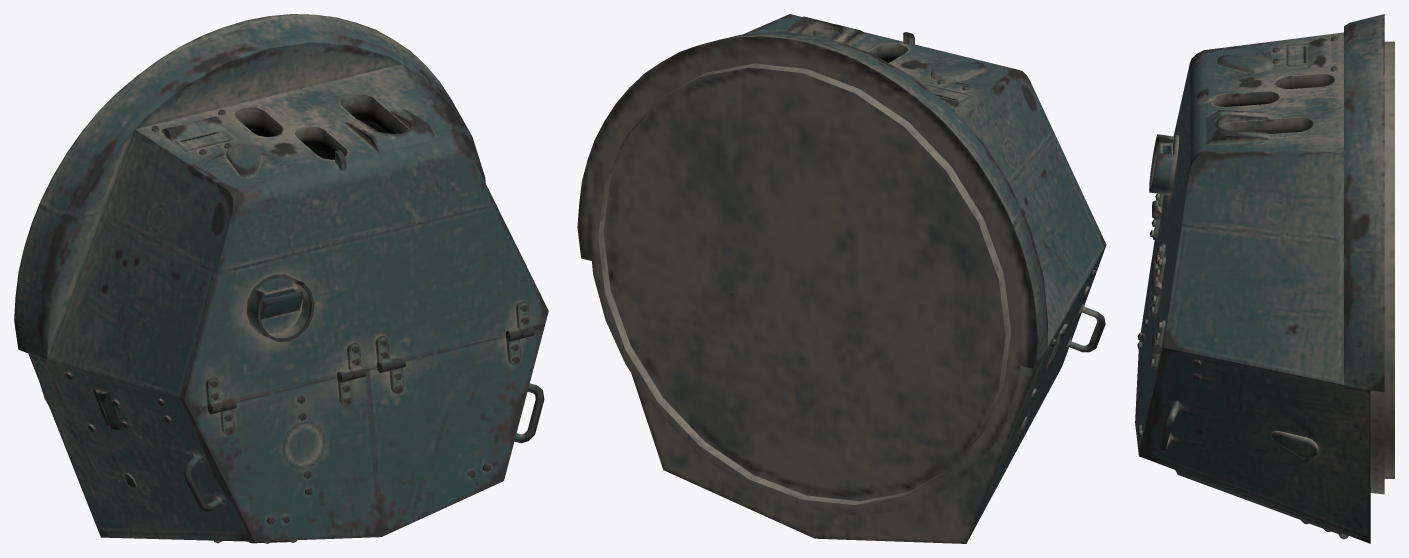
Rendered from Turret_01.glb.
The picture shows the model from 3 angles, left to right: view 1: azimuth 30°, elevation 25°; view 2: azimuth 150°, elevation 25°; view 3: azimuth 270°, elevation 25°; orthographic projection. The views are drawn at different scales.
Parts seen in each view (by area): view 1: set_0_group_0; view 2: set_0_group_0; view 3: set_0_group_0.
Part boxes in pixels (bbox=[...]): set_0_group_0: bbox=[14, 14, 548, 543]; set_0_group_0: bbox=[577, 14, 1106, 543]; set_0_group_0: bbox=[1135, 14, 1394, 543].
Size of the model in its own units: 1.22 by 1.27 by 0.6416.
1 material, 1 textured.
